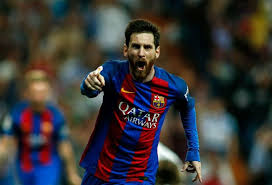barcelona: (77, 21, 204, 184), (4, 68, 83, 185)
